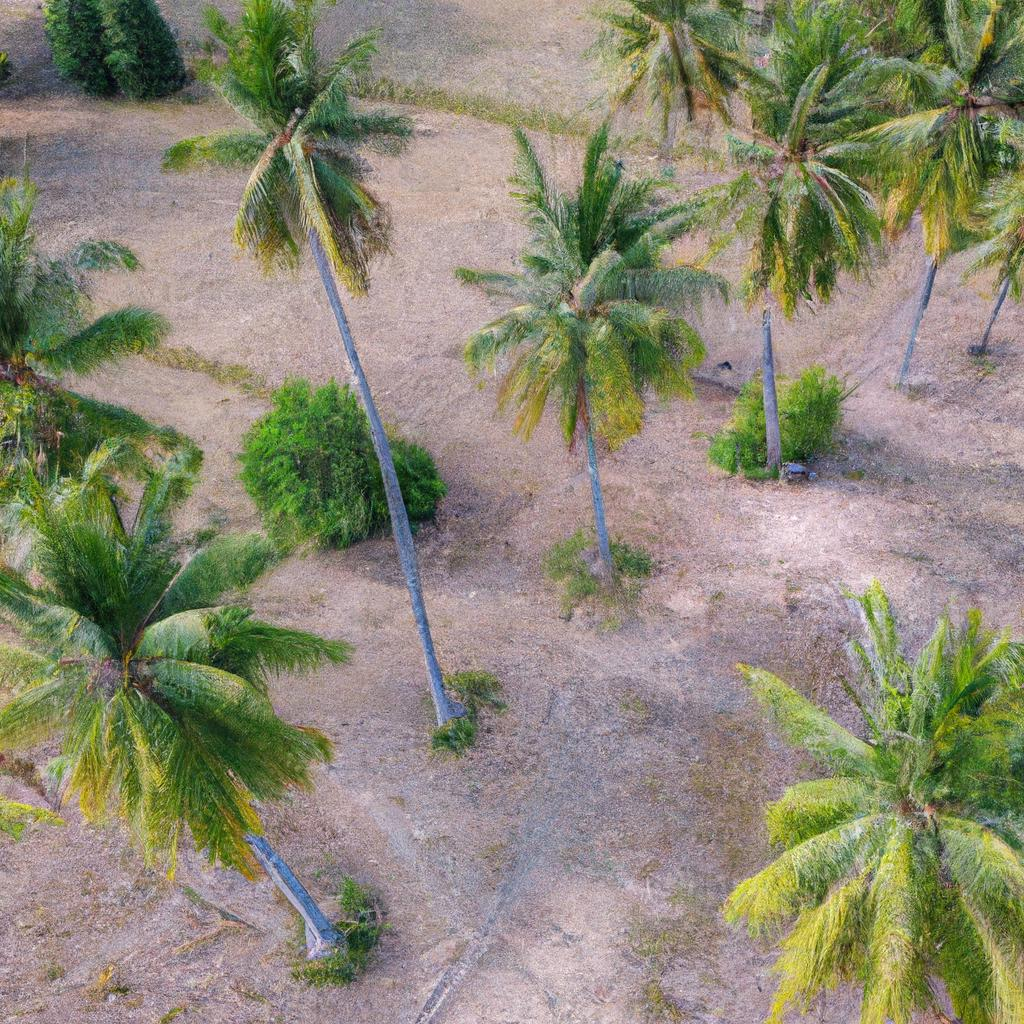coconut_tree: (0, 439, 393, 894), (692, 513, 1023, 1023), (474, 96, 732, 499), (141, 4, 446, 301), (693, 21, 911, 321)
